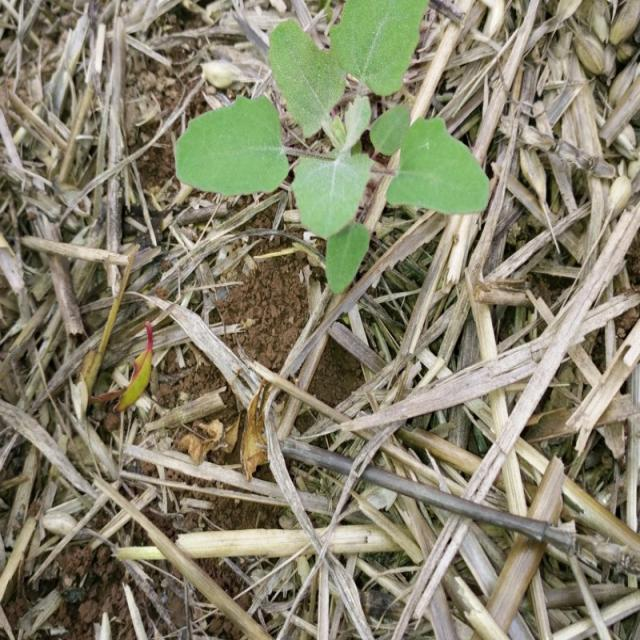ca: (179, 0, 490, 293)
